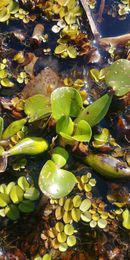water_hyacinth: (0, 61, 130, 201)
